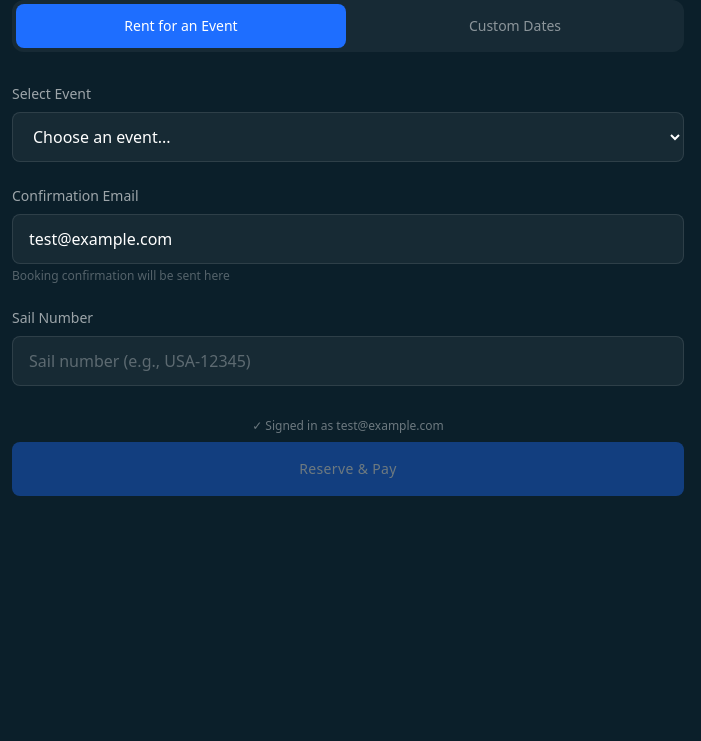
Test: ReserveBookingUI › updates total dynamically when extra days change
Select "Regatta Cup 2026 — Newport, RI (2026-06-10 to 2026-06-12)" in the dropdown: (348, 137) [12, 112, 684, 162]
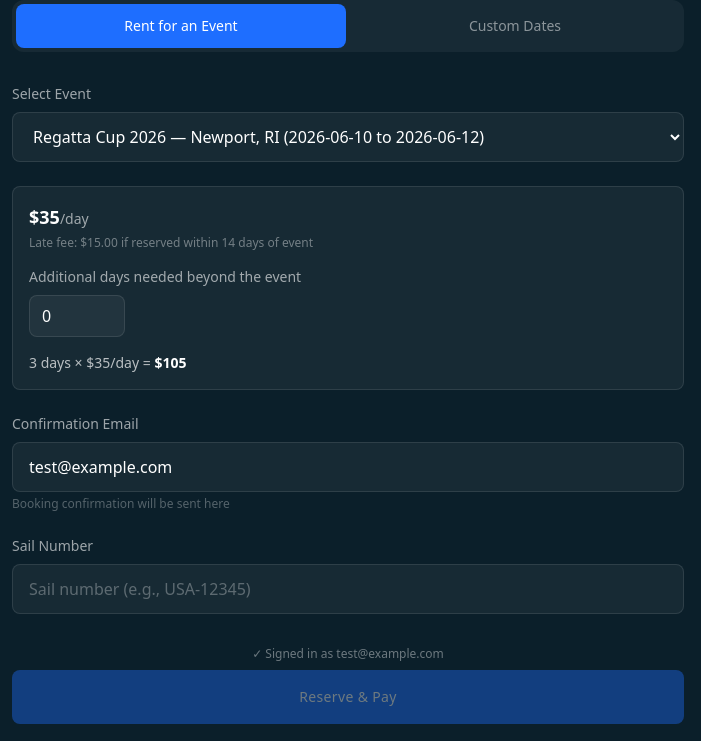
Replace the text in the number field labelled "Additional days needed beyond the event" with "2": (77, 316) [29, 295, 125, 337]
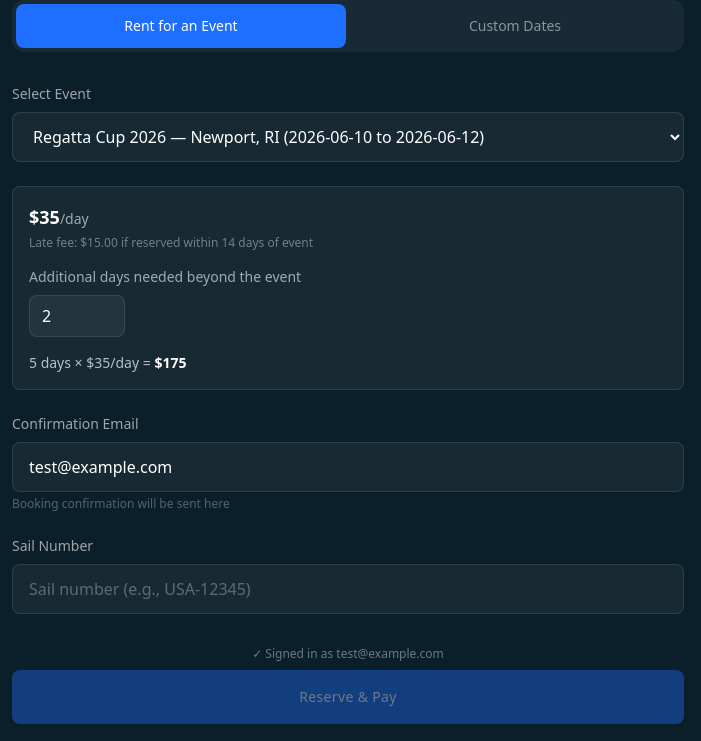
Now the text "$175" is shown, box [154, 353, 186, 372]
